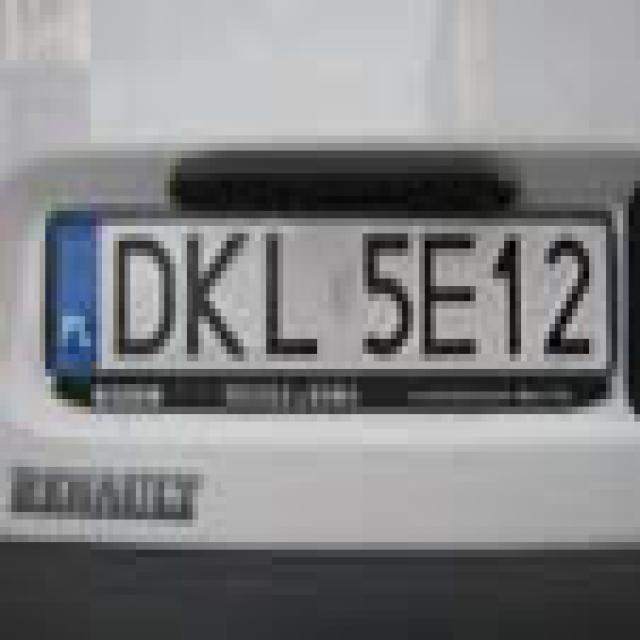pl_license_plate: (45, 211, 606, 361)
